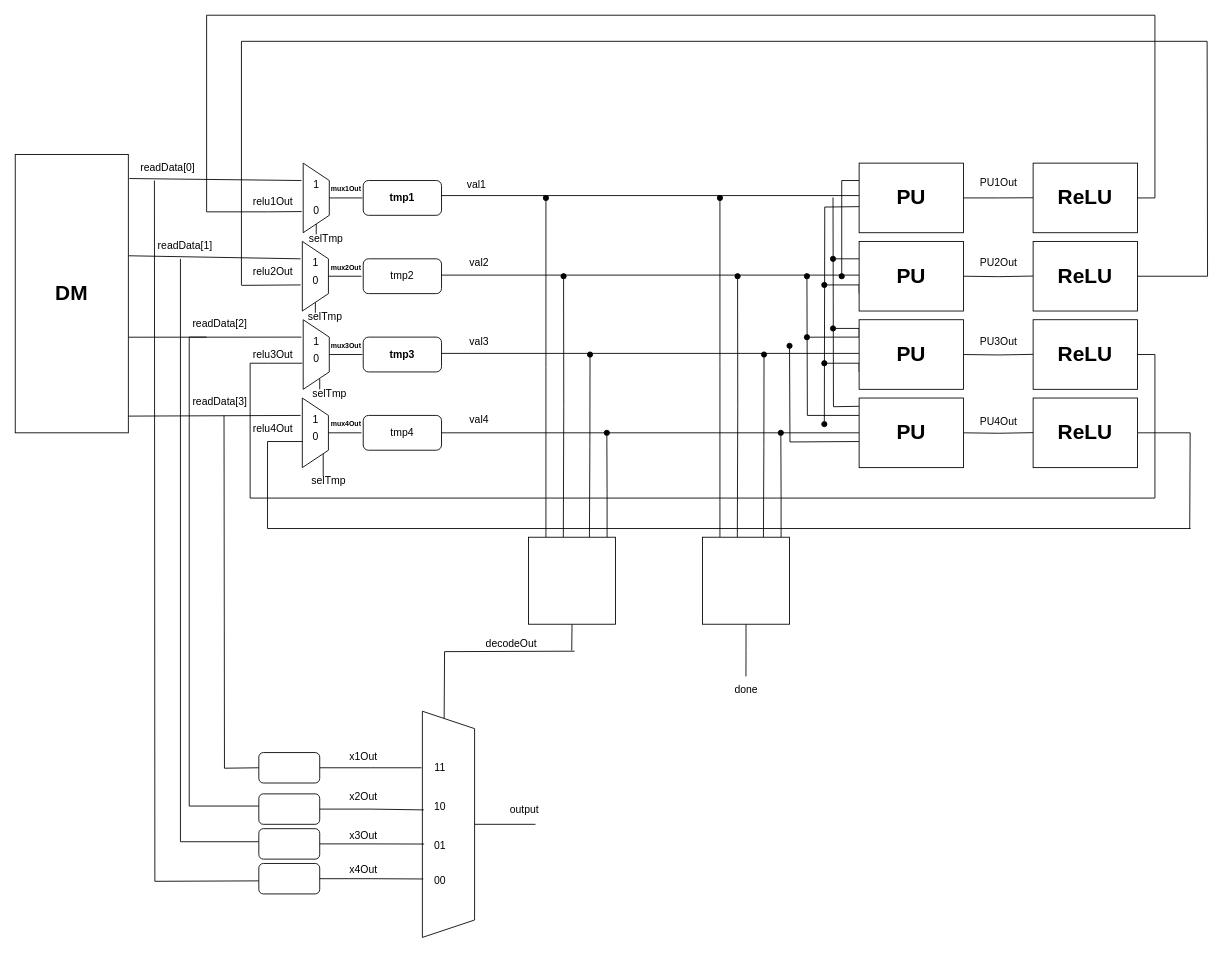
Image size: 1224x953. Some labels were removed from this diagram. The shapes that lost their labels are listed below. From the top down, each one's box as (x1, y1, x2, y2) in pixels, then its label:
(528, 536, 616, 624): DECODER
(702, 536, 790, 624): check
(258, 752, 320, 783): x4
(258, 793, 320, 824): x3
(258, 828, 320, 859): x2
(258, 863, 320, 894): x1
